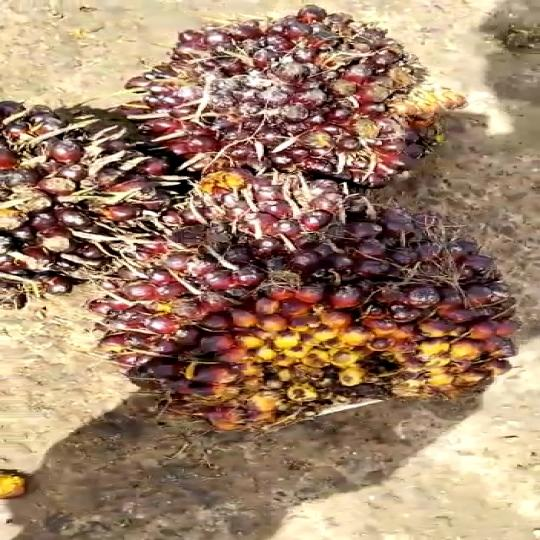kurang masak: (88, 150, 540, 434), (130, 2, 479, 184), (0, 100, 185, 288)
